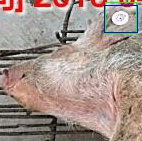text: (105, 2, 136, 33)
